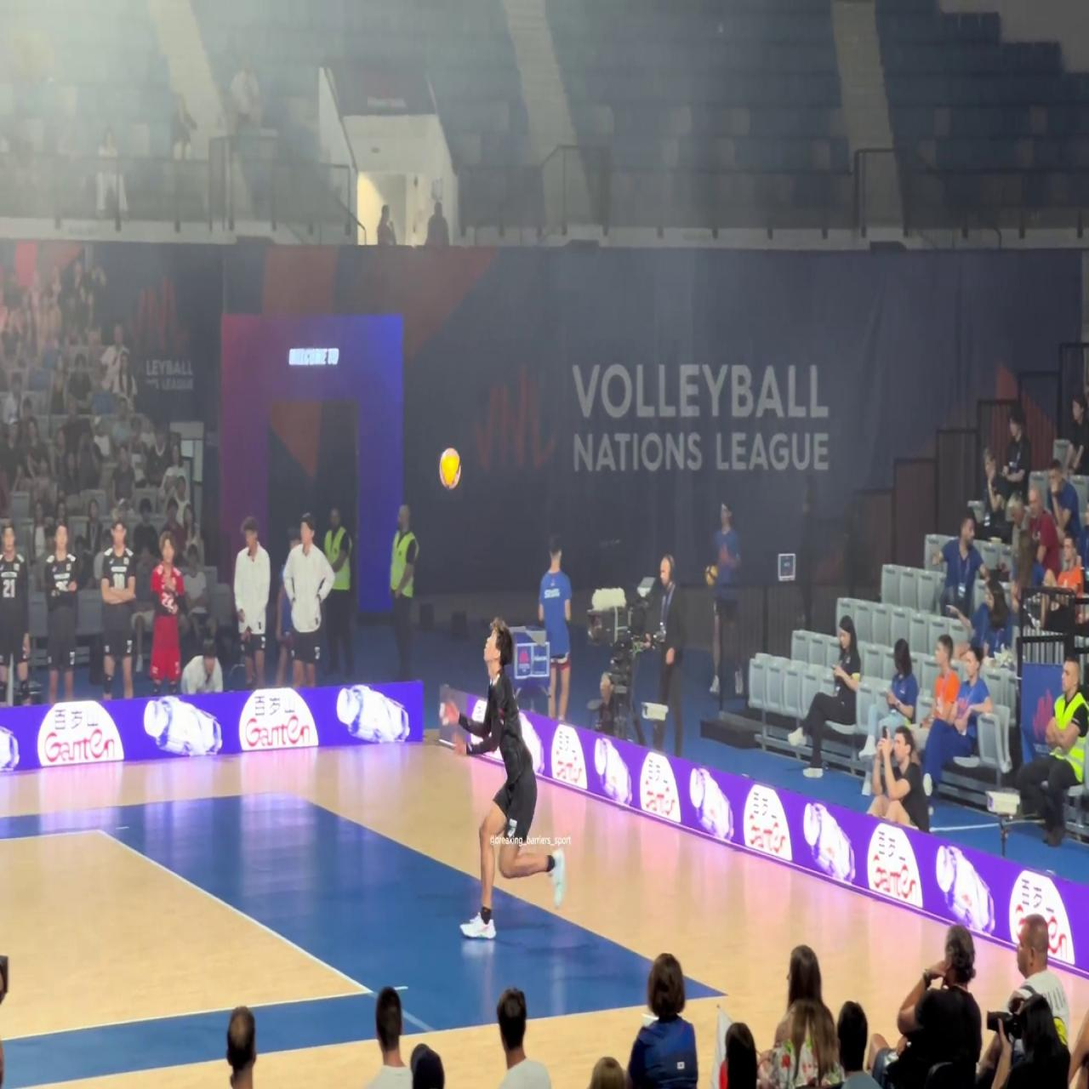ball: (439, 448, 461, 489)
